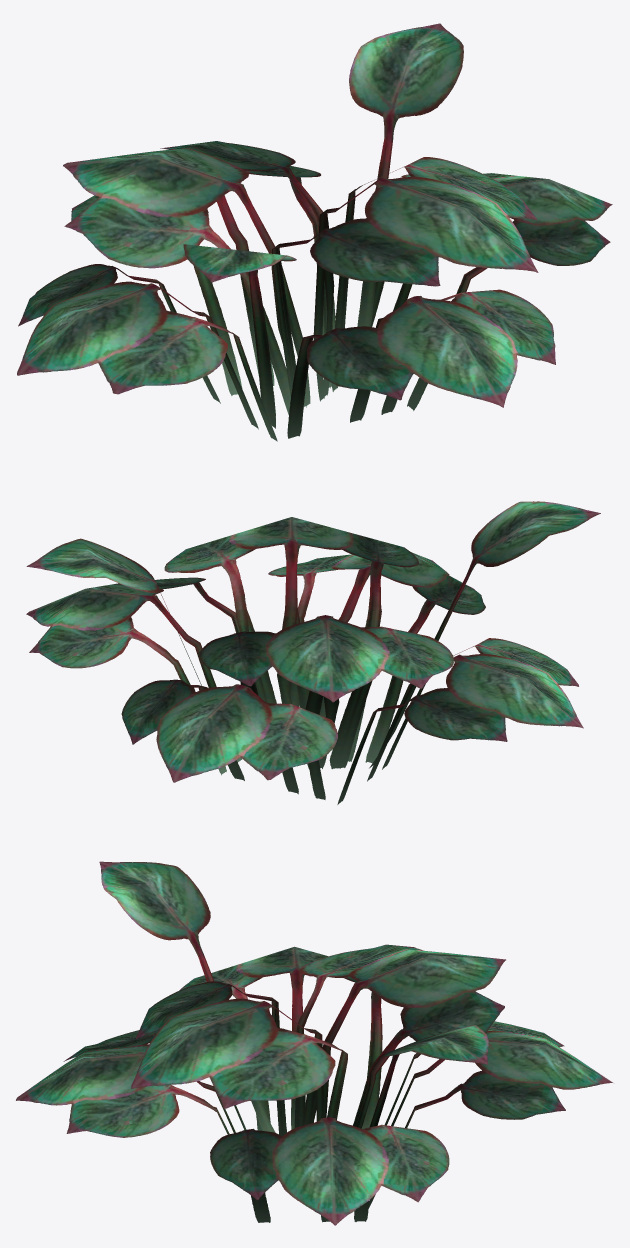
File: leaf_dath_lessetplant_l0.fbx
3 renders of one model, top to bottom at view 1: azimuth 30°, elevation 25°; view 2: azimuth 150°, elevation 25°; view 3: azimuth 270°, elevation 25°, orthographic. The views are drawn at different scales.
Visible parts, largest first — view 1: mesh_node; view 2: mesh_node; view 3: mesh_node.
Part boxes in pixels (x1=…): mesh_node: x1=17, y1=23, x2=612, y2=441; mesh_node: x1=26, y1=501, x2=600, y2=804; mesh_node: x1=16, y1=861, x2=612, y2=1225.
Size of the model in its own units: 3.16 by 1.37 by 2.98.
